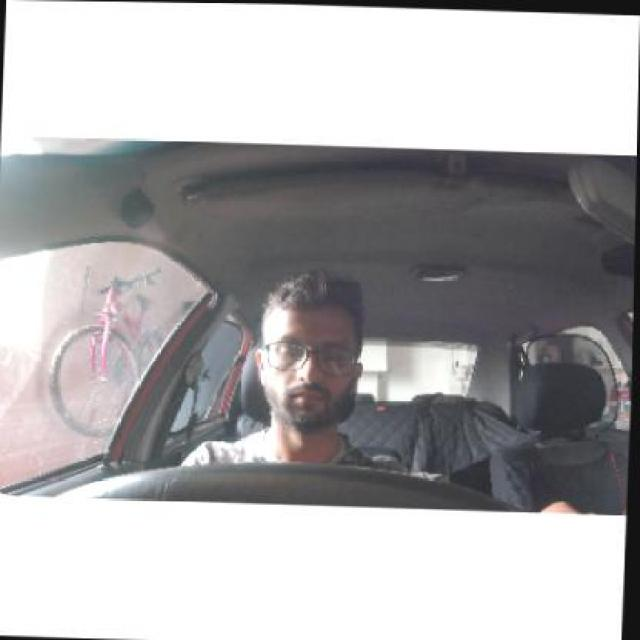drowsy: (252, 264, 368, 439)
